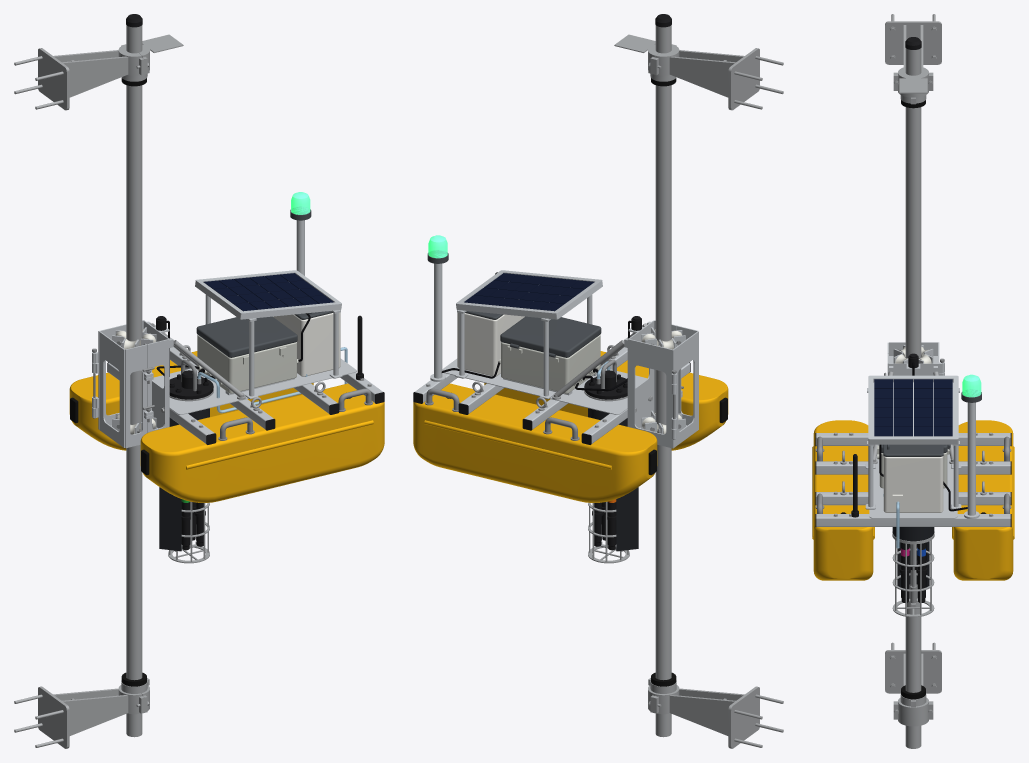
File: AquaSentinel_R3_float_on_pole.glb
3 views of the same model, side by side, from view 1: azimuth 30°, elevation 25°; view 2: azimuth 150°, elevation 25°; view 3: azimuth 270°, elevation 25° (orthographic).
Parts seen in each view (by area): view 1: Pontoon_Port, Guide_Pole, Pier_Bracket_Upper, Pier_Bracket_Lower, Carriage_Gate, Pod_Body, PV_Module_Cells, Carriage_Fixed, Pontoon_Starboard, Pod_Lid, Sampler_Body, Deck_Plate (+8 smaller); view 2: Pontoon_Starboard, Guide_Pole, Carriage_Fixed, Pier_Bracket_Upper, Pier_Bracket_Lower, Pod_Body, PV_Module_Cells, Pontoon_Port, Pod_Lid, Sampler_Body, Carriage_Gate, PV_Module_Frame (+9 smaller); view 3: Guide_Pole, Pontoon_Port, Pontoon_Starboard, PV_Module_Cells, Sampler_Body, PV_Module_Frame, Pier_Bracket_Upper, Crossbeam_4, Pier_Bracket_Lower, Deck_Plate, Sensor_Cage, Crossbeam_2 (+15 smaller).
Boxes of the visible parts, left/top/right/bottom form: Pontoon_Port: left=140, top=383, right=384, bottom=502; Guide_Pole: left=126, top=25, right=142, bottom=737; Pier_Bracket_Upper: left=38, top=44, right=144, bottom=110; Pier_Bracket_Lower: left=38, top=685, right=144, bottom=748; Carriage_Gate: left=92, top=330, right=153, bottom=448; Pod_Body: left=197, top=334, right=298, bottom=393; PV_Module_Cells: left=203, top=273, right=333, bottom=311; Carriage_Fixed: left=92, top=320, right=173, bottom=432; Pontoon_Starboard: left=69, top=351, right=313, bottom=450; Pod_Lid: left=196, top=316, right=297, bottom=357; Sampler_Body: left=273, top=312, right=340, bottom=376; Deck_Plate: left=152, top=358, right=356, bottom=414; Pontoon_Starboard: left=413, top=383, right=657, bottom=502; Guide_Pole: left=655, top=25, right=671, bottom=737; Carriage_Fixed: left=624, top=320, right=682, bottom=448; Pier_Bracket_Upper: left=653, top=44, right=759, bottom=110; Pier_Bracket_Lower: left=653, top=685, right=759, bottom=748; Pod_Body: left=499, top=334, right=600, bottom=393; PV_Module_Cells: left=464, top=273, right=594, bottom=311; Pontoon_Port: left=484, top=351, right=728, bottom=450; Pod_Lid: left=500, top=316, right=601, bottom=357; Sampler_Body: left=457, top=312, right=524, bottom=376; Carriage_Gate: left=658, top=325, right=698, bottom=447; PV_Module_Frame: left=456, top=270, right=602, bottom=319; Guide_Pole: left=905, top=48, right=921, bottom=748; Pontoon_Port: left=812, top=420, right=874, bottom=580; Pontoon_Starboard: left=952, top=420, right=1014, bottom=580; PV_Module_Cells: left=874, top=379, right=952, bottom=436; Sampler_Body: left=883, top=456, right=943, bottom=512; PV_Module_Frame: left=868, top=375, right=958, bottom=444; Pier_Bracket_Upper: left=885, top=21, right=941, bottom=74; Crossbeam_4: left=816, top=514, right=1010, bottom=526; Pier_Bracket_Lower: left=885, top=650, right=941, bottom=702; Deck_Plate: left=869, top=445, right=957, bottom=518; Sensor_Cage: left=892, top=531, right=934, bottom=617; Crossbeam_2: left=816, top=461, right=1010, bottom=474.
Bounding box in the file's own units: 1.38 × 3.01 × 0.782.
